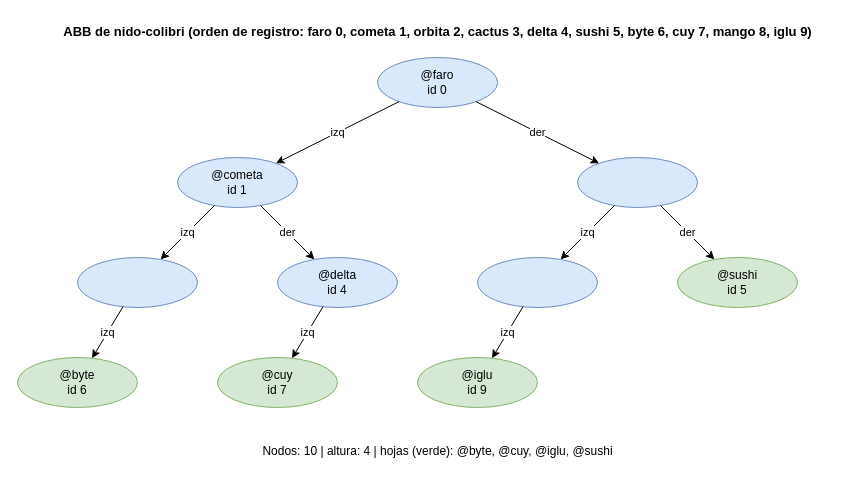
This 865x484 diagram has some shape labels left out. The centre of each missing label's shape, as x and y in pixels:
@cactus id 3: [137,282]
@mango id 8: [537,282]
@orbita id 2: [637,182]
